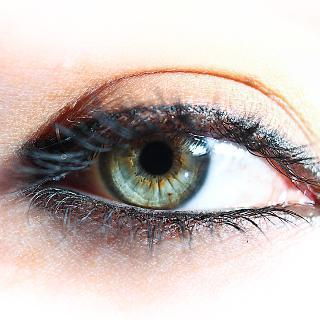pupil: (139, 141, 173, 175)
